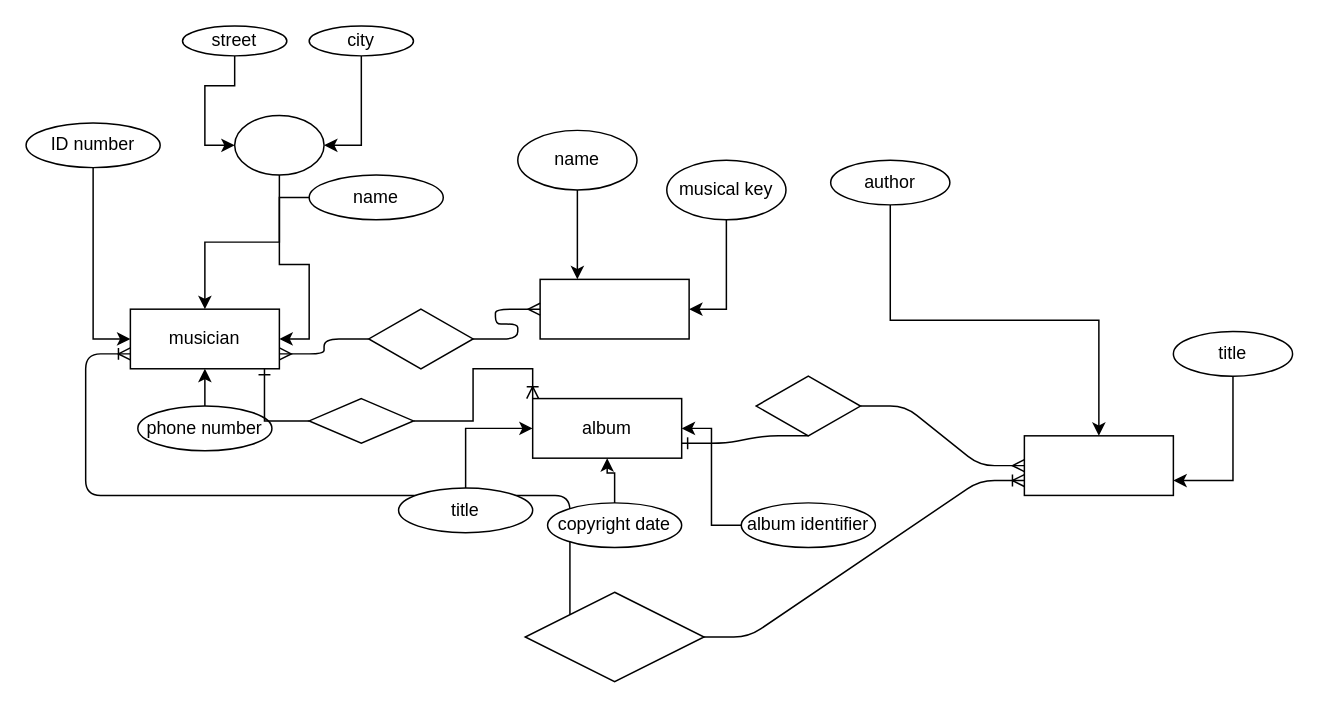
Image size: 1319x708. Some labels were removed from this diagram. The shapes that lost their labels are listed below. From the top down, each one's centre as x and y in pixels, then its label:
At pixel 278 144: "address".
At pixel 614 308: "instrument".
At pixel 420 338: "play".
At pixel 360 420: "produce".
At pixel 807 405: "has".
At pixel 1098 464: "song".
At pixel 614 636: "perform".
